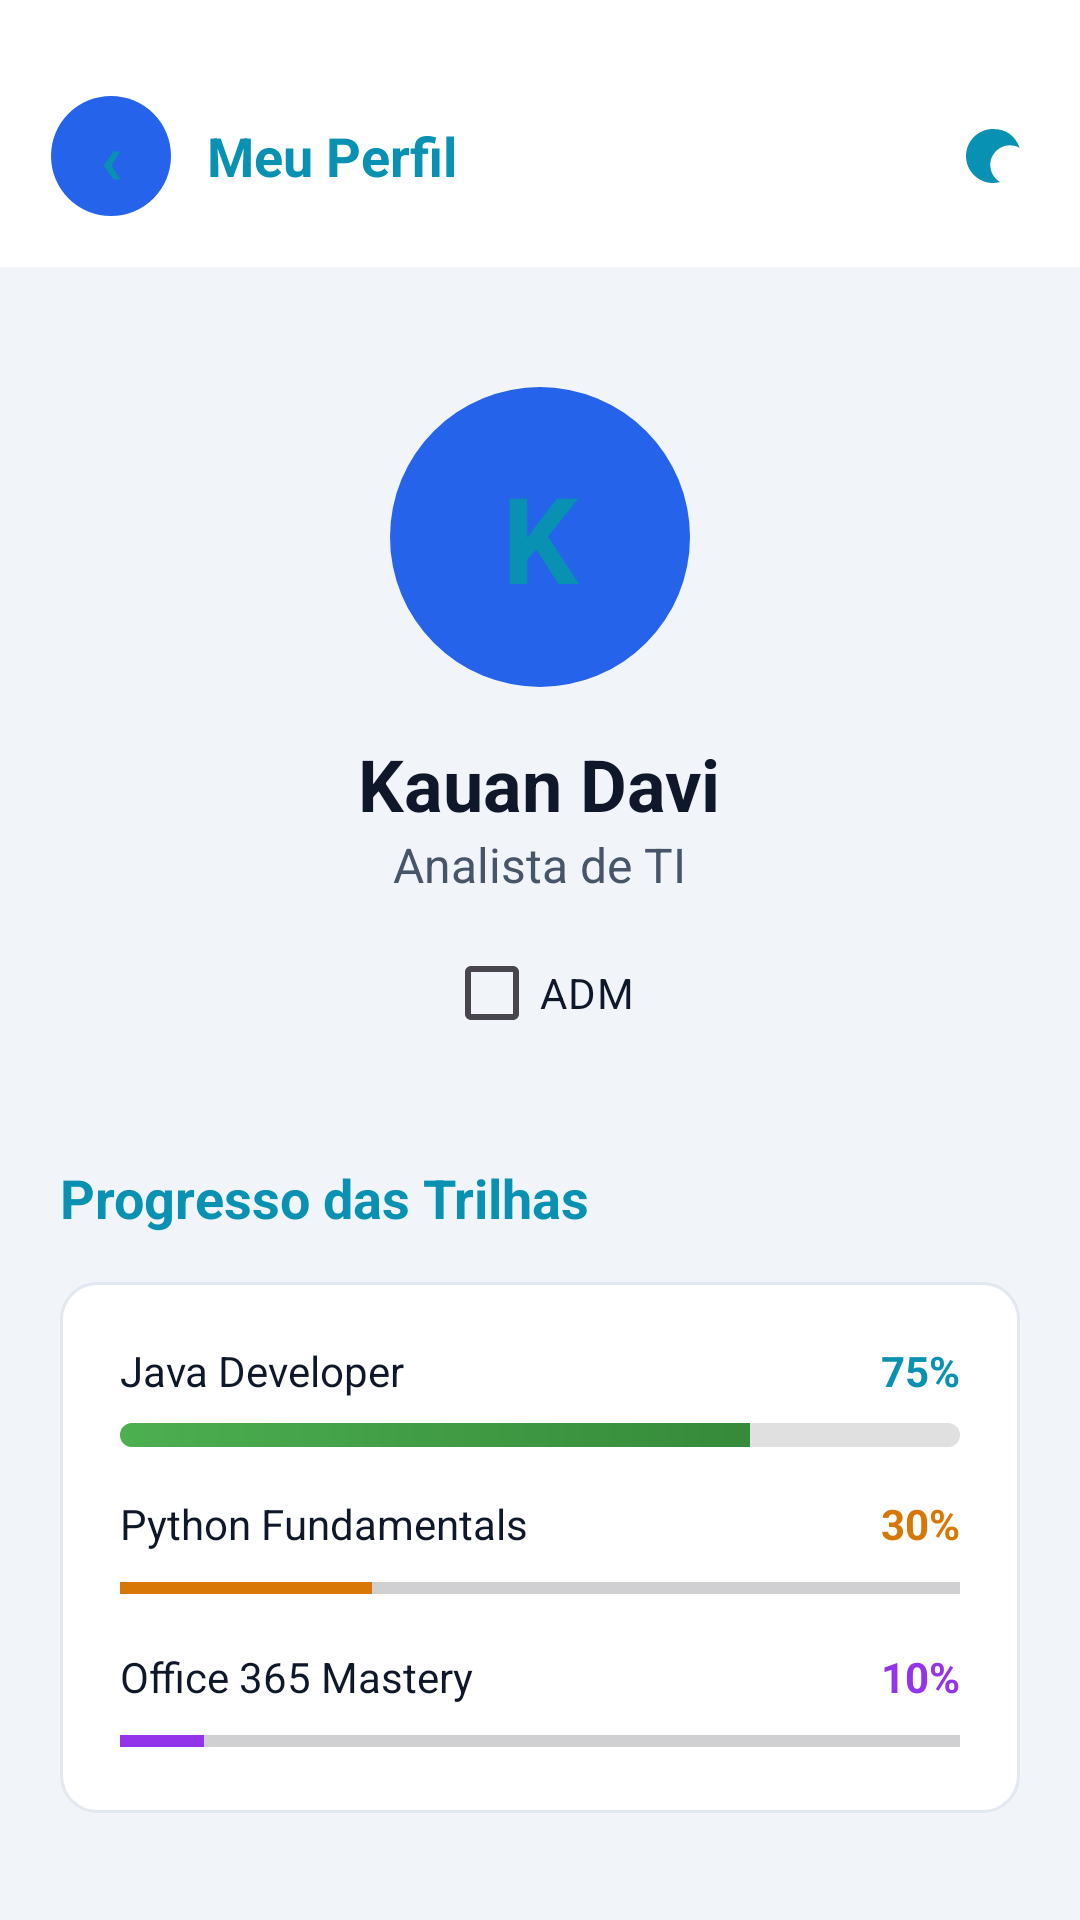

Icons on this 1080 × 1920 Android screen, each with its box as (x1, y1, x2, y2):
moon: (966, 129, 1020, 183)
